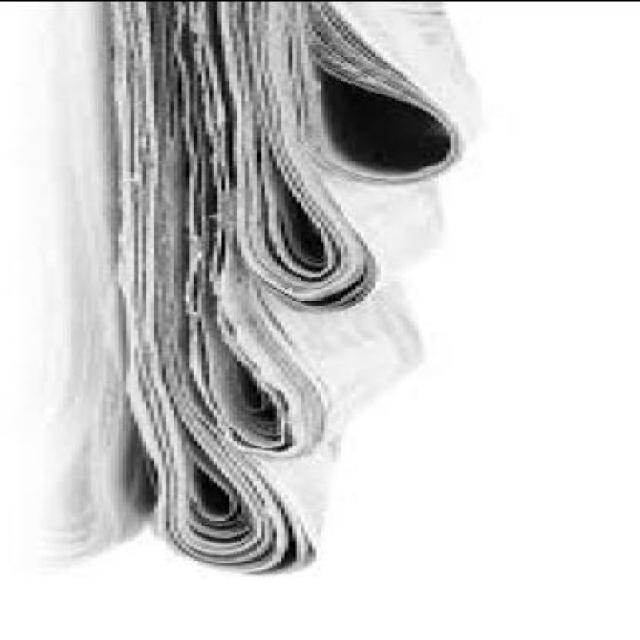PAPER: (110, 1, 342, 572), (198, 0, 427, 455), (215, 1, 448, 314), (295, 2, 477, 180)
